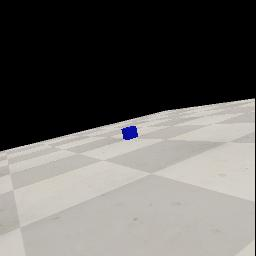box: (121, 126, 138, 140)
